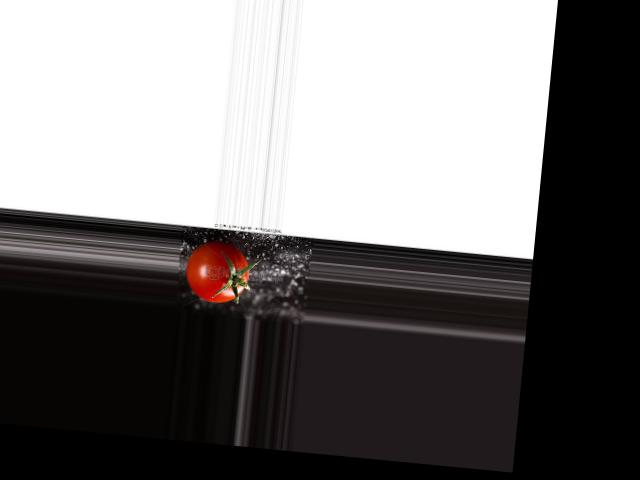tomato: (184, 239, 252, 305)
